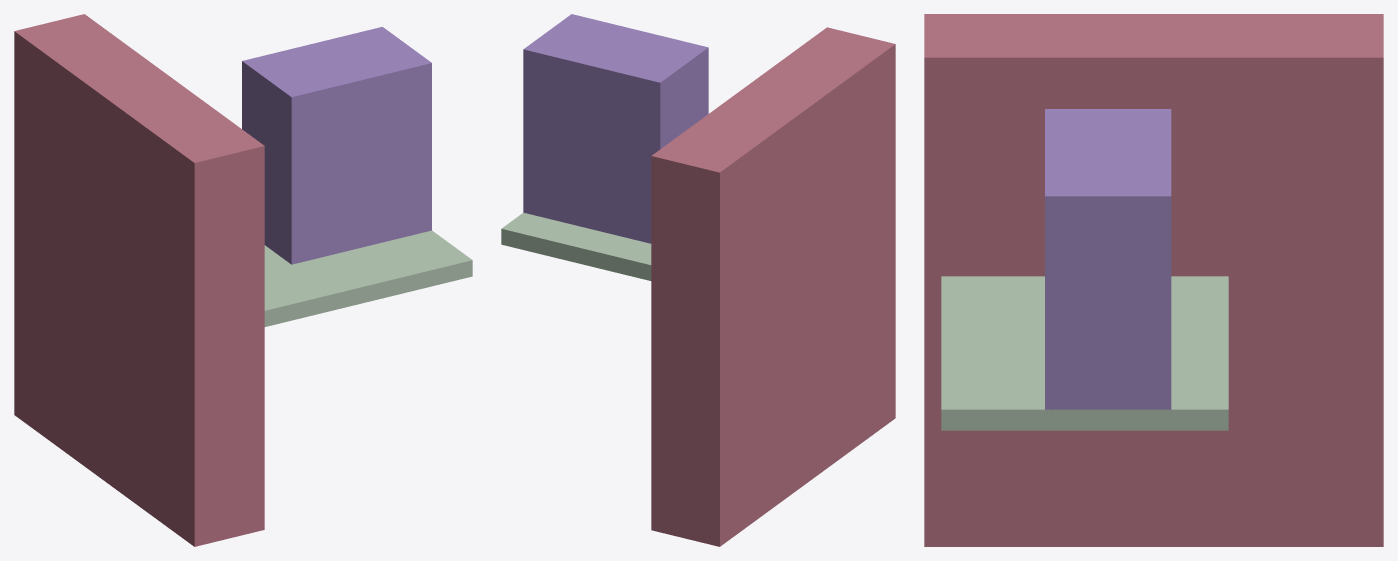
File: 199549_pred.glb
3 renders of one model, left to right at view 1: azimuth 30°, elevation 25°; view 2: azimuth 150°, elevation 25°; view 3: azimuth 270°, elevation 25°, orthographic. The views are drawn at different scales.
Parts seen in each view (by area): view 1: world; view 2: world; view 3: world.
Boxes of the visible parts, <box> form: world: <box>14,14,472,546</box>; world: <box>501,14,895,546</box>; world: <box>924,14,1383,546</box>.
Bounding box in the file's own units: 3.65 × 4.7 × 4.
